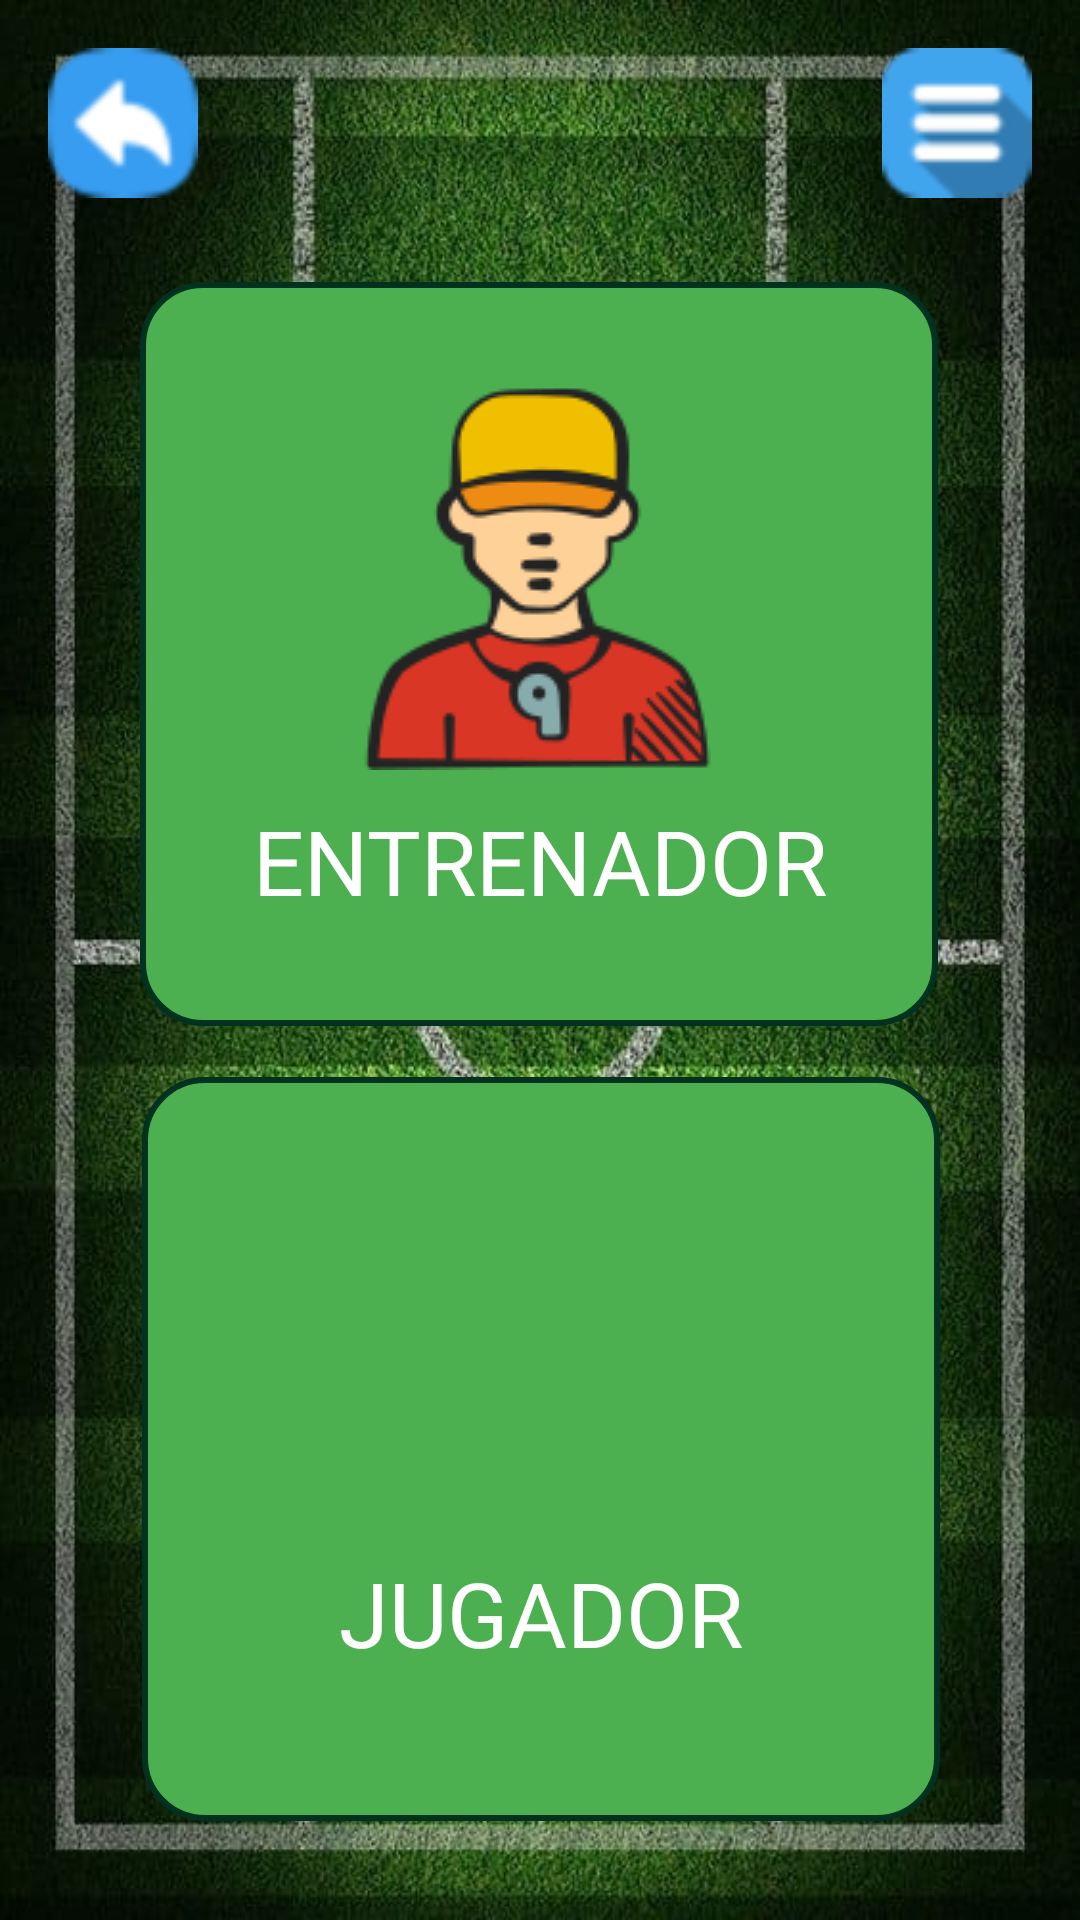

Named icons in this screenshot (1080×1920) and their bounding boxes, (x1, y1, x2, y2):
atras: (48, 48, 198, 198)
burger menu: (882, 48, 1032, 198)
